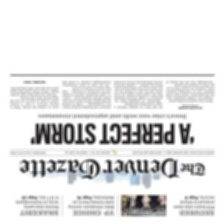news_paper: (6, 73, 218, 222)
